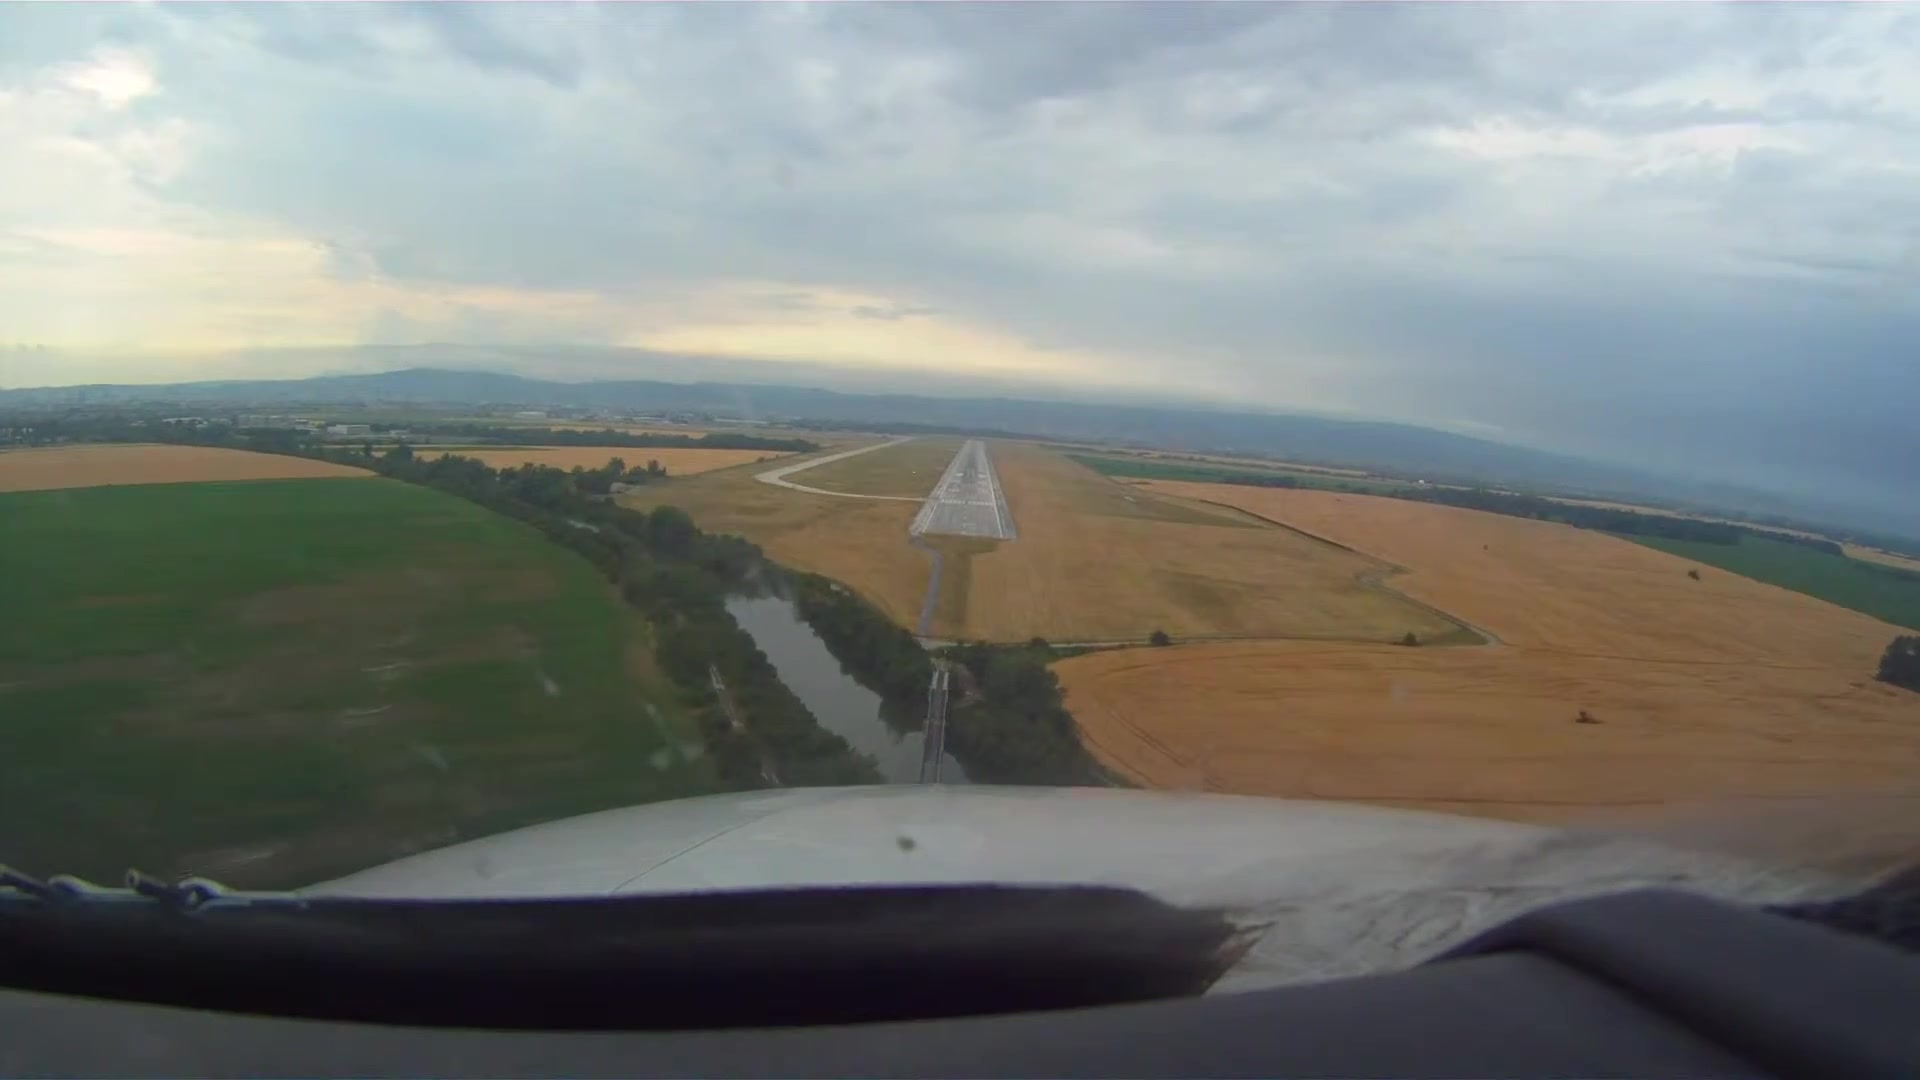entrance: (938, 495, 996, 506)
runway: (911, 440, 1011, 541)
